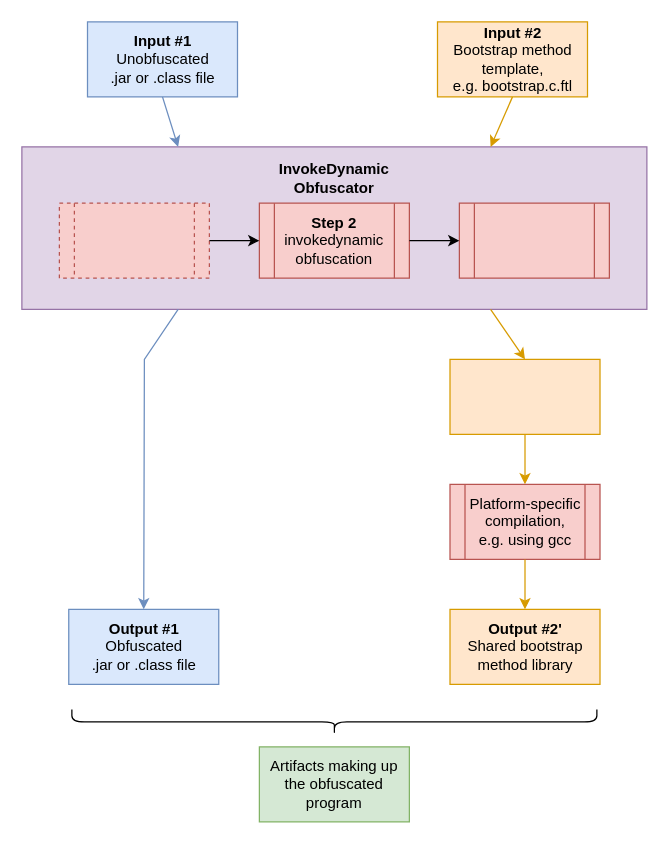
This 669x844 diagram has some shape labels left out. Each missing label, with the centre of its shape:
"Output #2 Processed bootstrap method template, e.g. bootstrap.c" belongs at point (524, 396).
"Step 1 Field access substitution" belongs at point (133, 240).
"Step 3 Bootstrap method gen." belongs at point (533, 240).
